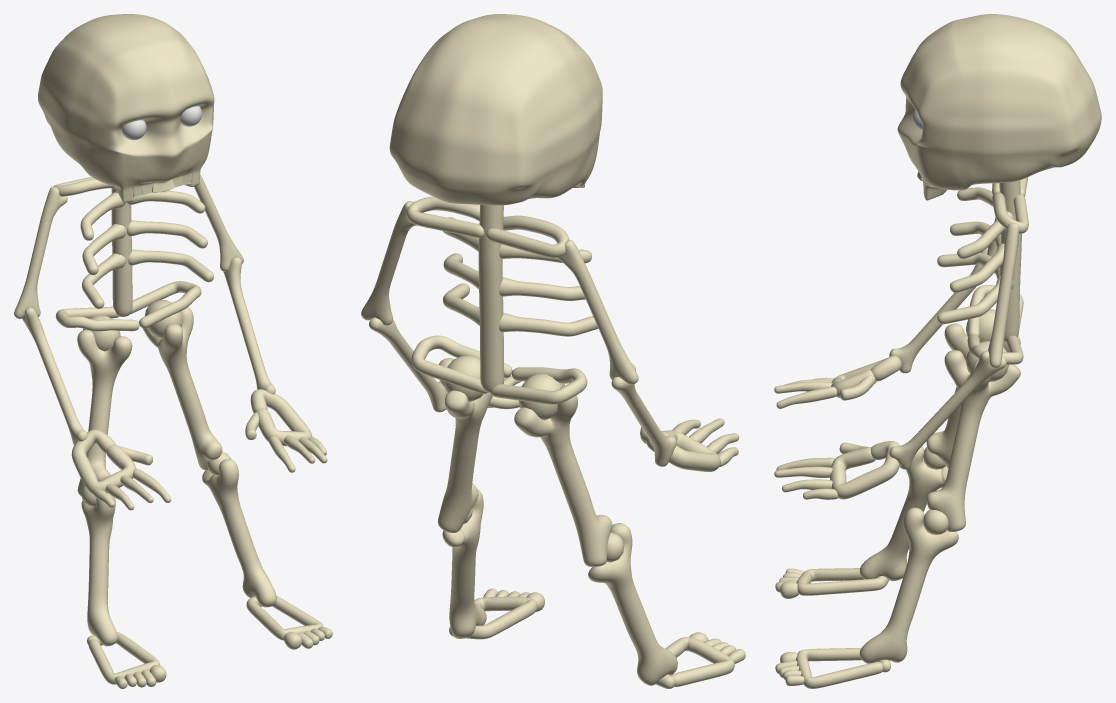
File: skeleton.fbx
3 views of the same model, side by side, from view 1: azimuth 30°, elevation 25°; view 2: azimuth 150°, elevation 25°; view 3: azimuth 270°, elevation 25° (orthographic). The views are drawn at different scales.
Visible parts, largest first — view 1: Plane, Cube, Sphere; view 2: Plane, Cube; view 3: Plane, Cube.
Boxes of the visible parts, bbox=[...] form: Plane: bbox=[14, 174, 332, 688]; Cube: bbox=[38, 14, 214, 202]; Sphere: bbox=[122, 106, 201, 140]; Plane: bbox=[361, 196, 745, 688]; Cube: bbox=[389, 14, 602, 205]; Plane: bbox=[774, 177, 1028, 688]; Cube: bbox=[897, 14, 1101, 200].
Size of the model in its own units: 242 by 579 by 282.
